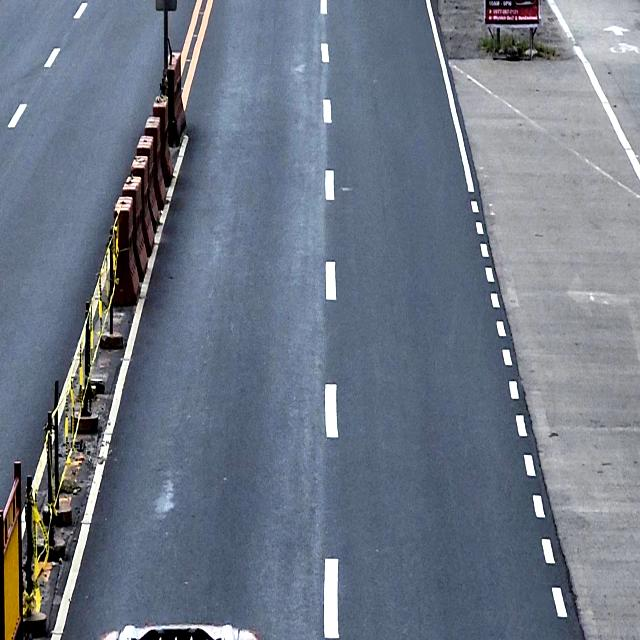Car: (96, 623, 258, 640)
